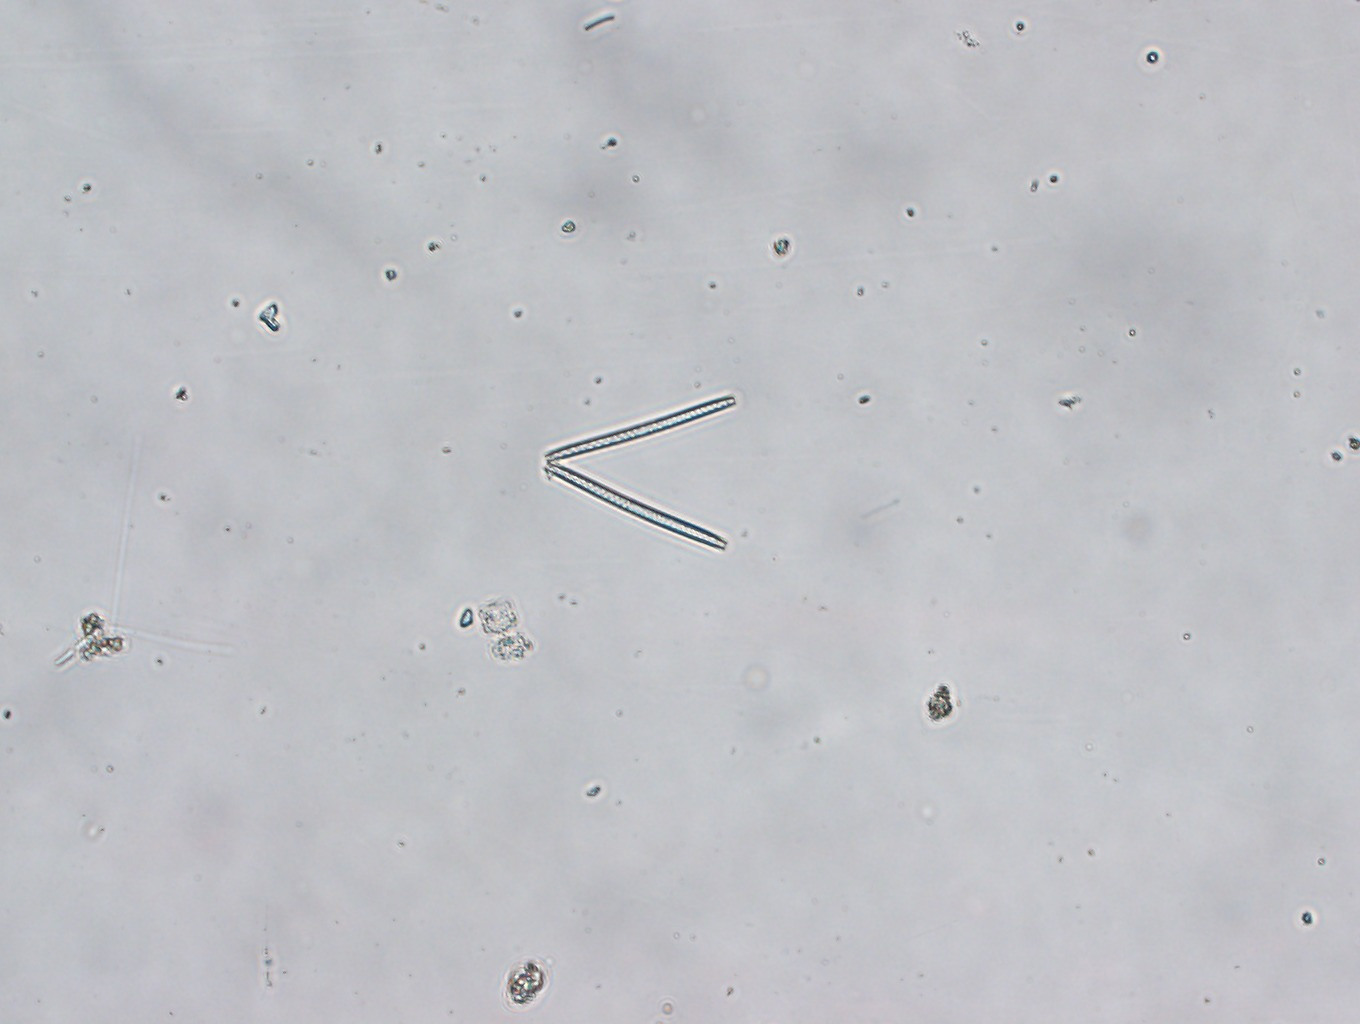thalassionema frauenfeldii: (542, 393, 736, 552)
